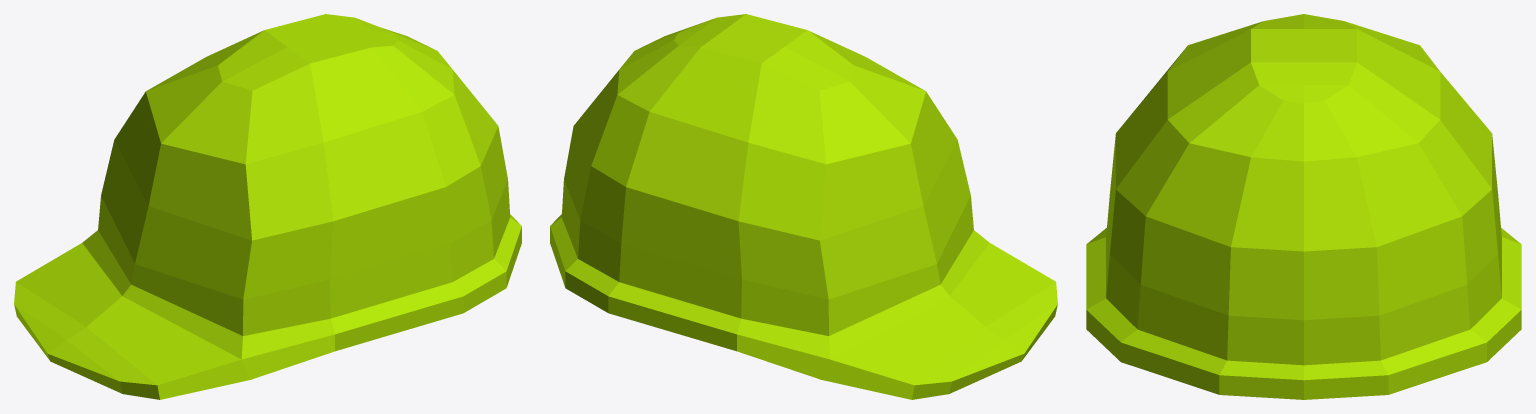
The model's file is HardHat.fbx.
The picture shows the model from 3 angles, left to right: view 1: azimuth 30°, elevation 25°; view 2: azimuth 150°, elevation 25°; view 3: azimuth 270°, elevation 25°; orthographic projection. The views are drawn at different scales.
Visible parts, largest first — view 1: Plane; view 2: Plane; view 3: Plane.
Boxes of the visible parts, box(x1,y1,x2,y2) form: Plane: box(14, 14, 521, 399); Plane: box(550, 14, 1057, 399); Plane: box(1086, 14, 1521, 399).
Size of the model in its own units: 639 by 352 by 464.
Materials: 1 (1 with a texture image).
